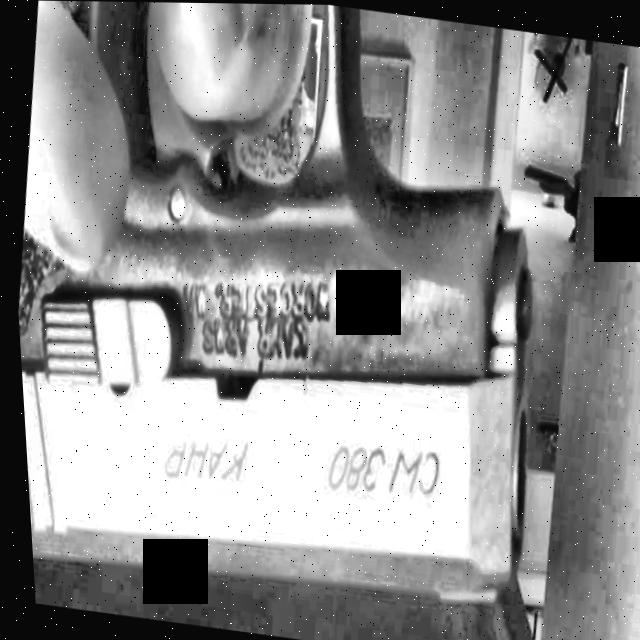Kahr: (0, 0, 582, 635)
